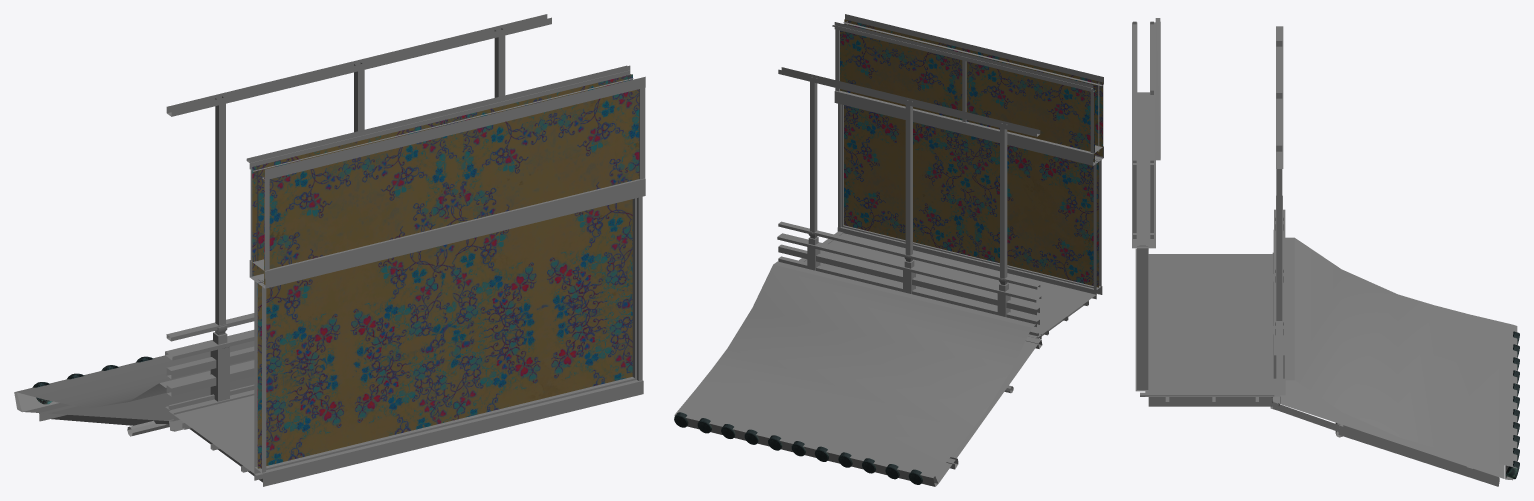
The model's file is FL4_External_Wall.fbx.
The picture shows the model from 3 angles, left to right: view 1: azimuth 30°, elevation 25°; view 2: azimuth 150°, elevation 25°; view 3: azimuth 270°, elevation 25°; orthographic projection. The views are drawn at different scales.
Parts seen in each view (by area): view 1: FL4_External_Wall; view 2: FL4_External_Wall; view 3: FL4_External_Wall.
Boxes of the visible parts, <box> form: FL4_External_Wall: <box>14,14,645,486</box>; FL4_External_Wall: <box>674,14,1103,486</box>; FL4_External_Wall: <box>1132,18,1519,486</box>.
Size of the model in its own units: 506 by 540 by 575.
